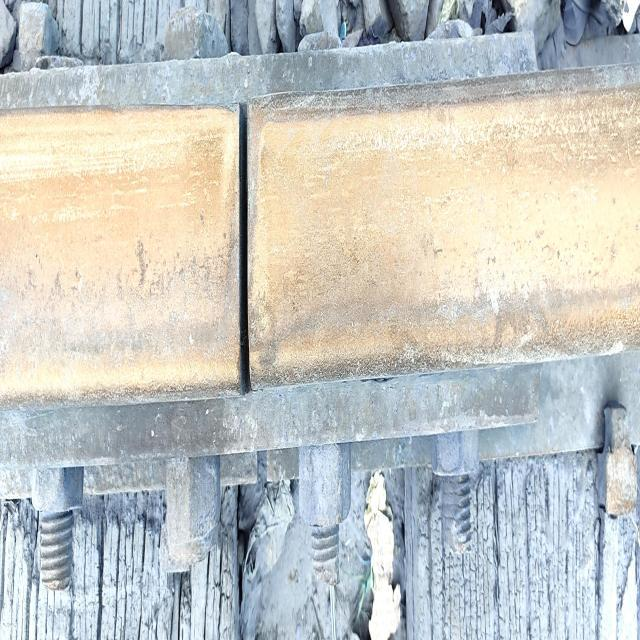Good Joint: (12, 40, 540, 527)
